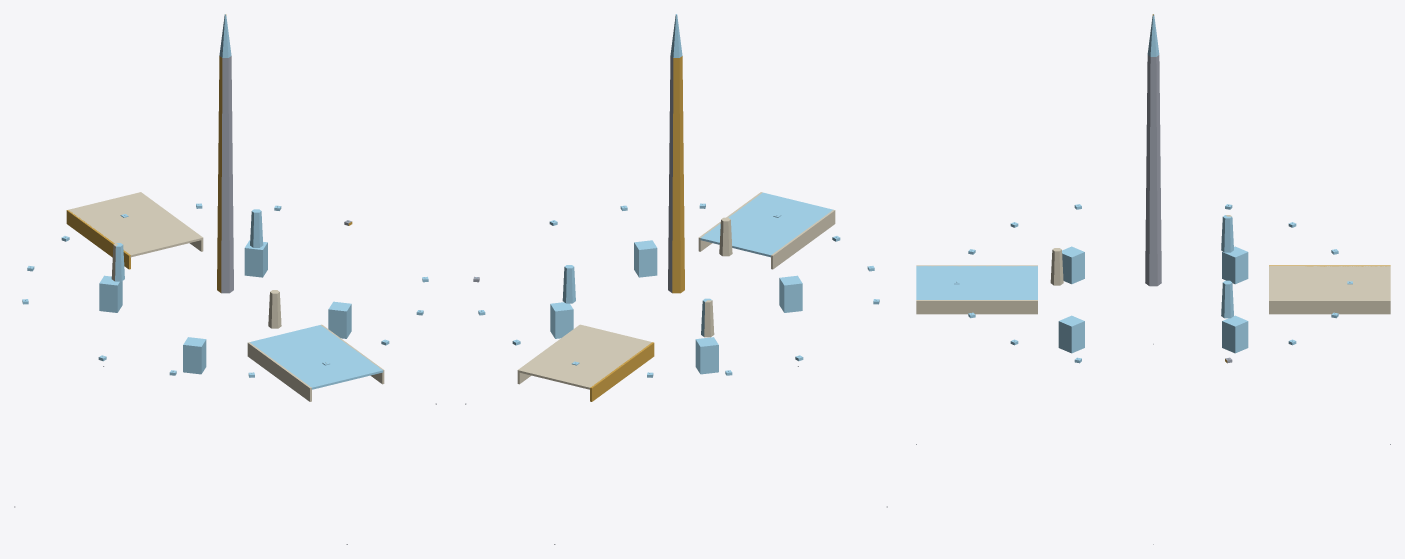
The model's file is chunk_es_waystone_ring.fbx.
3 renders of one model, left to right at view 1: azimuth 30°, elevation 25°; view 2: azimuth 150°, elevation 25°; view 3: azimuth 270°, elevation 25°, orthographic. The views are drawn at different scales.
Parts seen in each view (by area): view 1: ES_WAYSTONE_RING; view 2: ES_WAYSTONE_RING; view 3: ES_WAYSTONE_RING.
Part boxes in pixels (x1,y1,x2,y2): ES_WAYSTONE_RING: (14, 14, 436, 544); ES_WAYSTONE_RING: (465, 14, 887, 544); ES_WAYSTONE_RING: (916, 14, 1390, 544).
Size of the model in its own units: 256 by 256 by 256.
